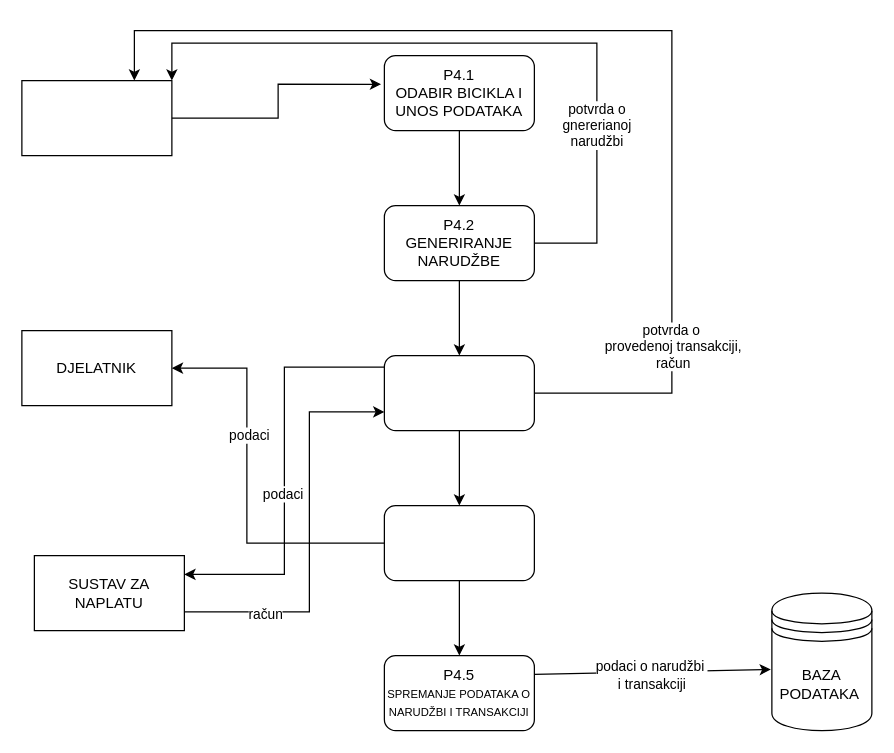
The diagram is 894 pixels wide and 753 high, and some of its shapes have lost their labels. Each missing label, with the box of its shape:
KORISNIK: (21, 79, 172, 156)
P4.3 NAPLATA: (383, 354, 534, 431)
P4.4 SLANJE PODATAKA ZA DOSTAVU: (383, 504, 534, 581)
